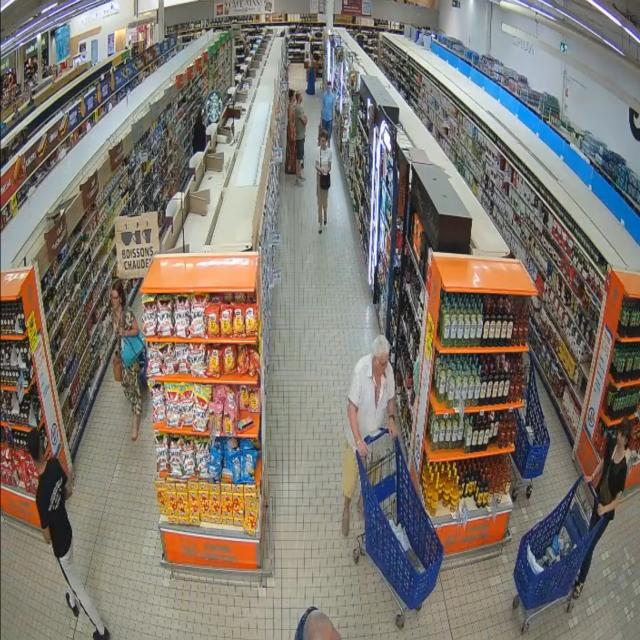bags: (121, 333, 144, 367), (598, 462, 611, 505), (113, 355, 122, 382), (320, 174, 330, 190)
hands: (357, 440, 369, 457), (389, 416, 397, 439), (597, 504, 606, 517), (585, 476, 593, 483), (119, 326, 124, 336), (332, 122, 335, 129), (323, 170, 327, 174), (318, 124, 321, 128)
person: (28, 429, 109, 639), (342, 336, 396, 536), (574, 419, 630, 597), (111, 280, 141, 441), (315, 130, 332, 233), (295, 607, 340, 639), (295, 92, 307, 186), (285, 89, 296, 174), (321, 83, 334, 145), (193, 110, 206, 153)
